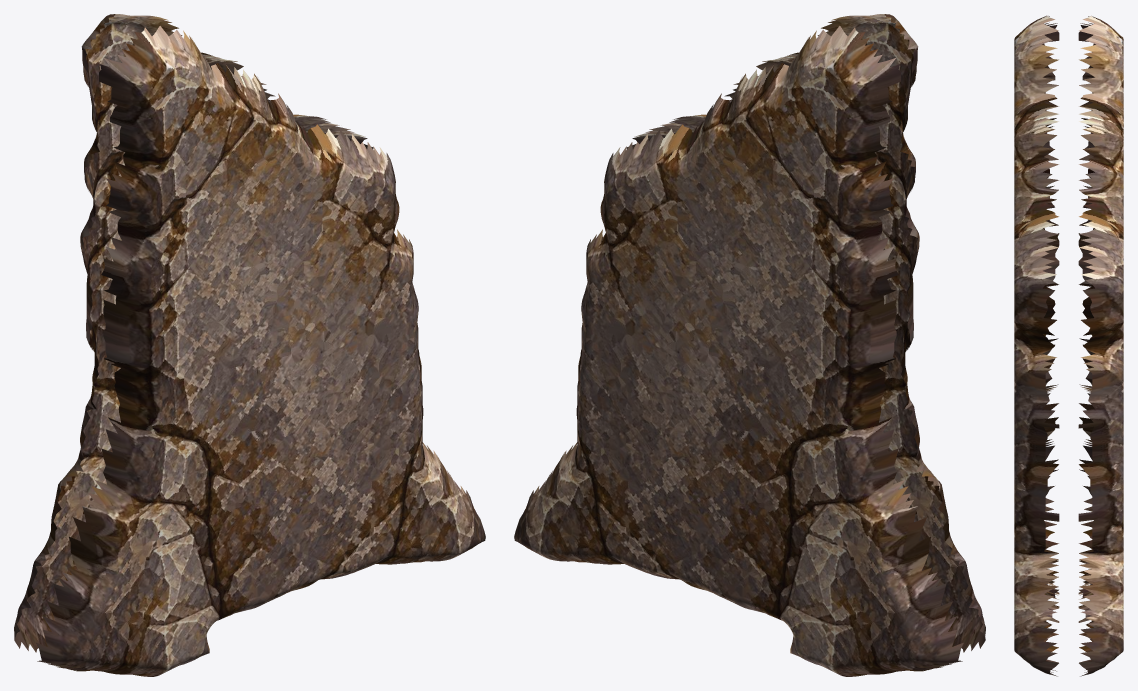
File: v4-crypt-chamber-scatter-stone-shard.glb
The picture shows the model from 3 angles, left to right: view 1: azimuth 30°, elevation 25°; view 2: azimuth 150°, elevation 25°; view 3: azimuth 270°, elevation 25°; orthographic projection. The views are drawn at different scales.
Visible parts, largest first — view 1: v4-crypt-chamber-scatter-stone-shard; view 2: v4-crypt-chamber-scatter-stone-shard; view 3: v4-crypt-chamber-scatter-stone-shard.
Boxes of the visible parts, x1,y1,x2,y2 form: v4-crypt-chamber-scatter-stone-shard: (14, 14, 485, 676); v4-crypt-chamber-scatter-stone-shard: (514, 14, 985, 676); v4-crypt-chamber-scatter-stone-shard: (1014, 15, 1123, 676).
Size of the model in its own units: 0.8506 by 1.18 by 0.2081.
Materials: 1 (1 with a texture image).
